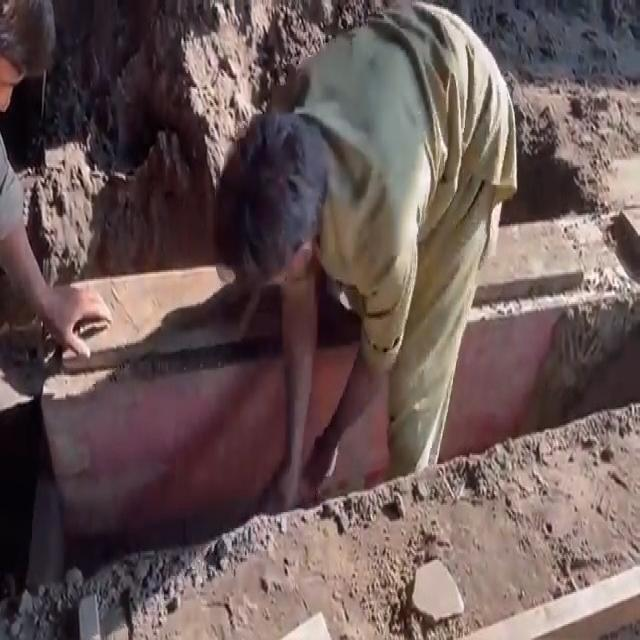dress: (296, 3, 520, 461)
